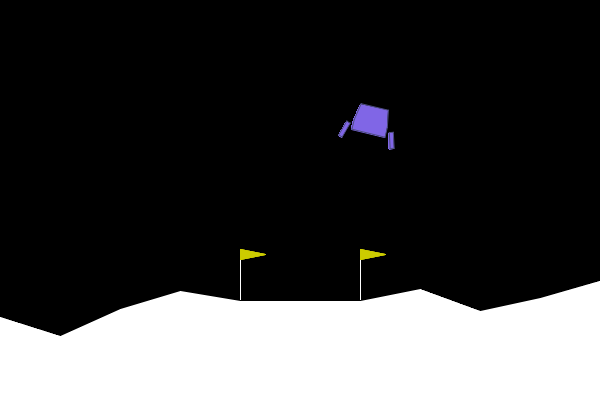lander: (336, 98, 404, 151)
